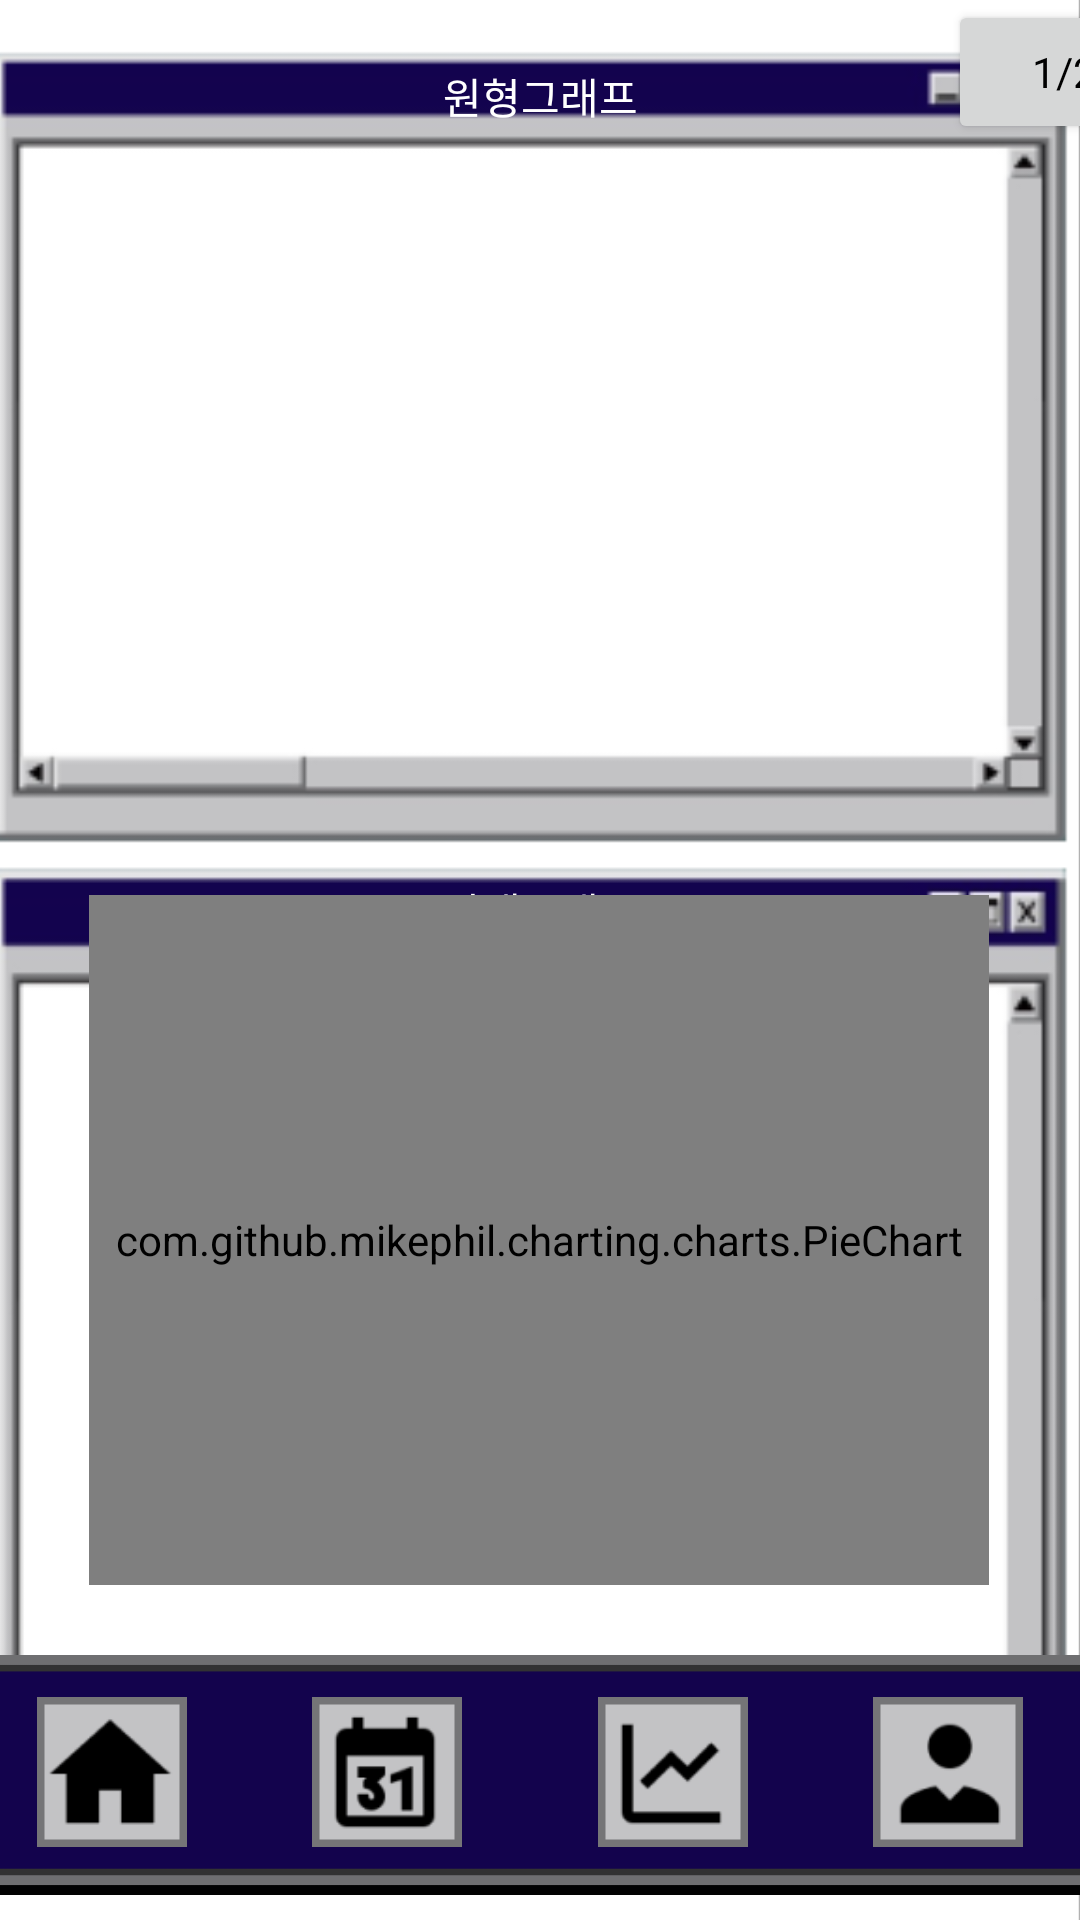

Where to tap for icons on this 1080px×1920px app screen, as [x,y]:
toanaly: [673,1772]
tocalen: [387,1772]
tohome: [112,1772]
touser: [948,1772]
